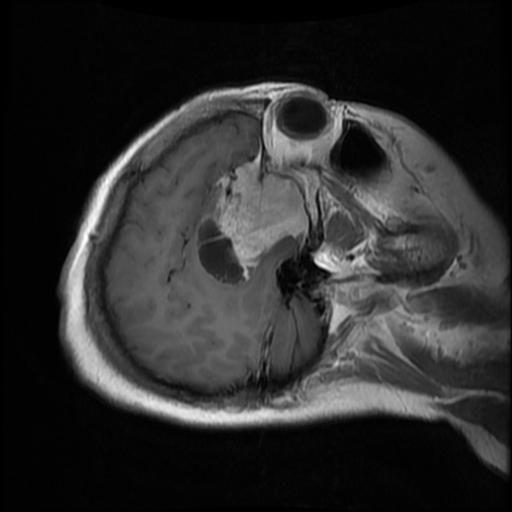meningioma: (193, 158, 309, 285)
